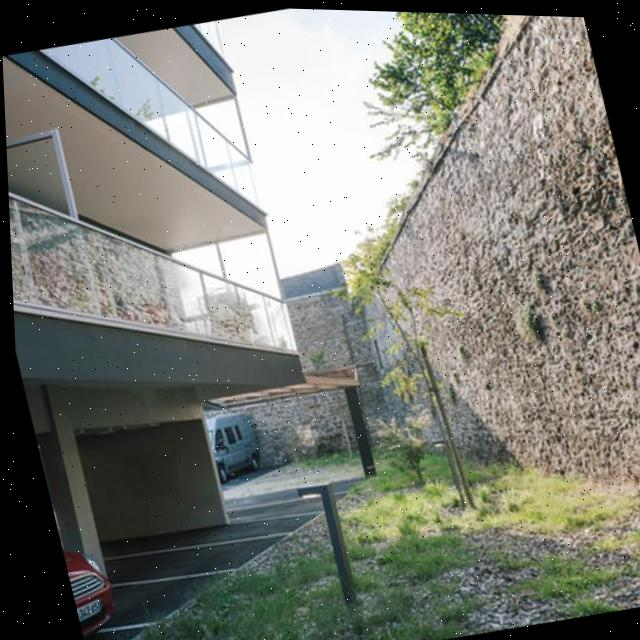building: (1, 14, 336, 560)
